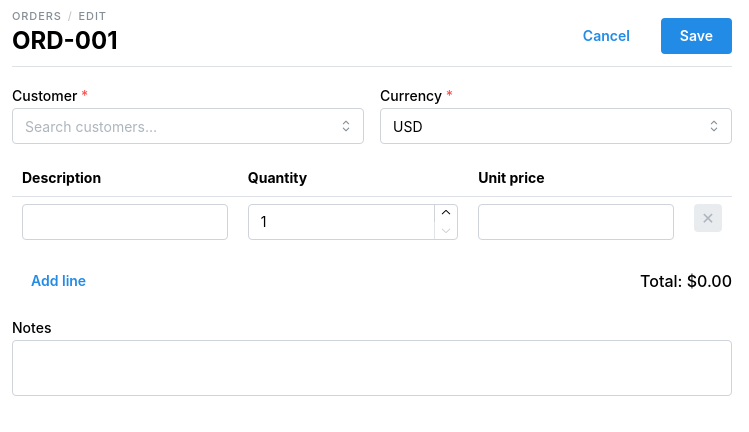
Test case: OrderForm › blocks submission when unit price is not a decimal amount
Step 1. Click the field labelled "Customer *" → point(188, 126), box [12, 108, 364, 144]
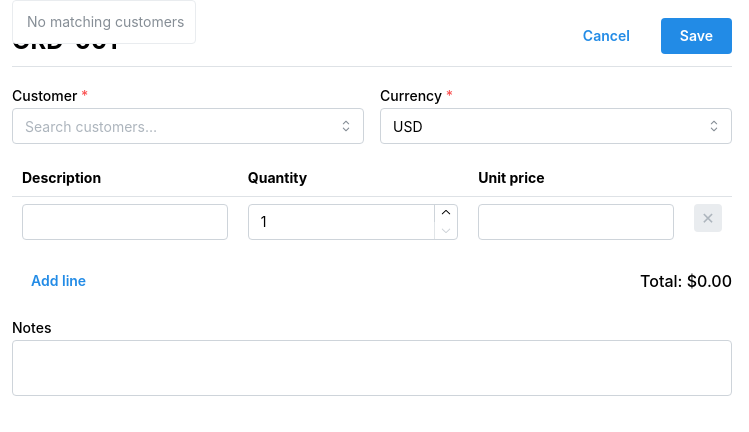
Step 2. Focus the field labelled "Customer *" → point(188, 126), box [12, 108, 364, 144]
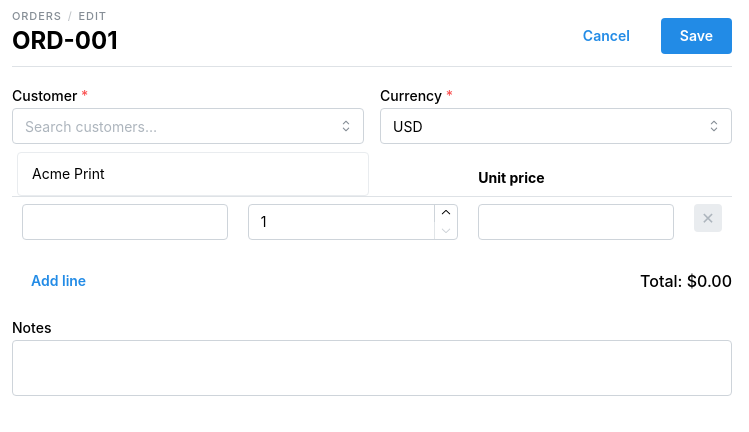
Step 3. Click the option "Acme Print" → point(68, 174), box [32, 165, 105, 182]
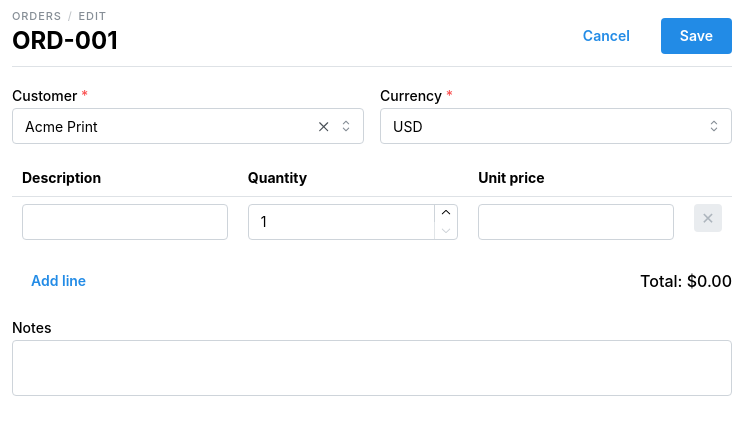
Step 4. Type "Business cards" into the 3rd field → point(125, 222), box [22, 204, 228, 240]
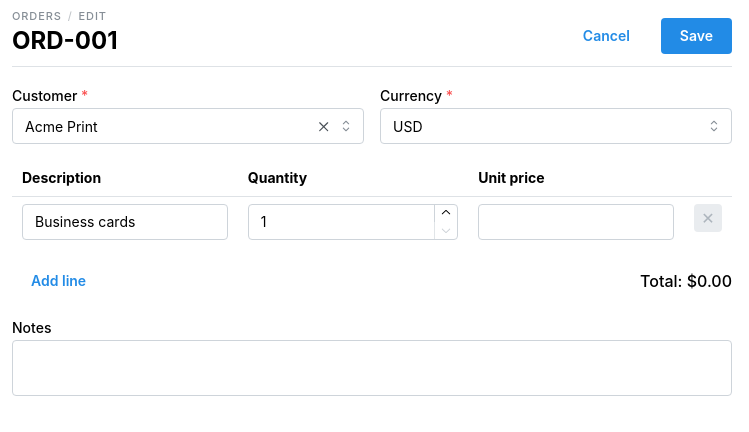
Step 5. Type "abc" into the 5th field → point(576, 222), box [478, 204, 674, 240]
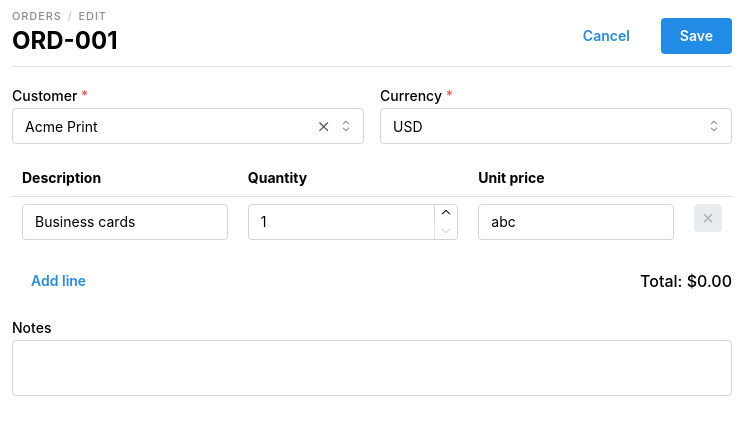
Step 6. Click the button "Save" → point(696, 36), box [661, 18, 732, 54]
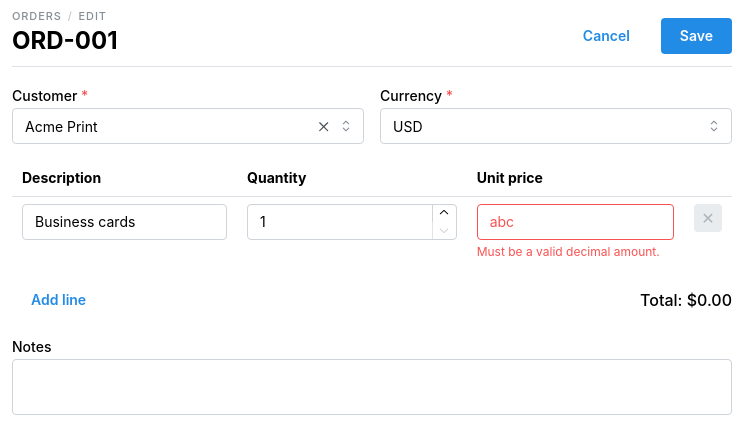
Check: the text "Must be a valid decimal amount." is shown, box [477, 245, 674, 259]
